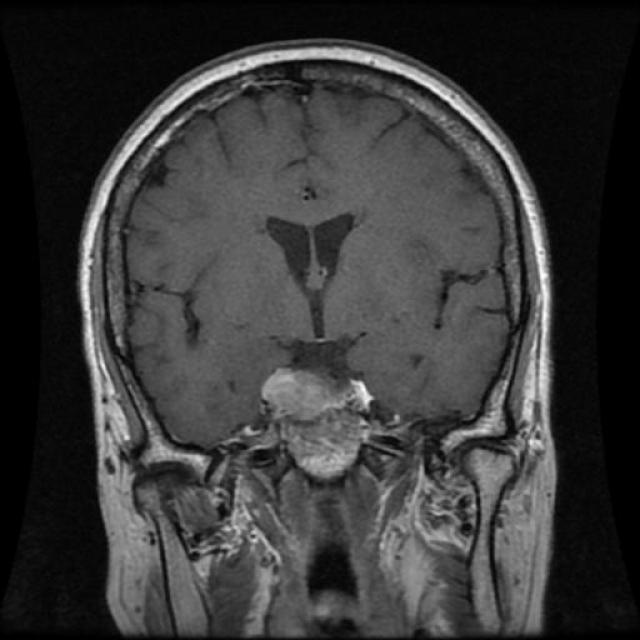Brain-Tumor: (255, 341, 389, 499)
